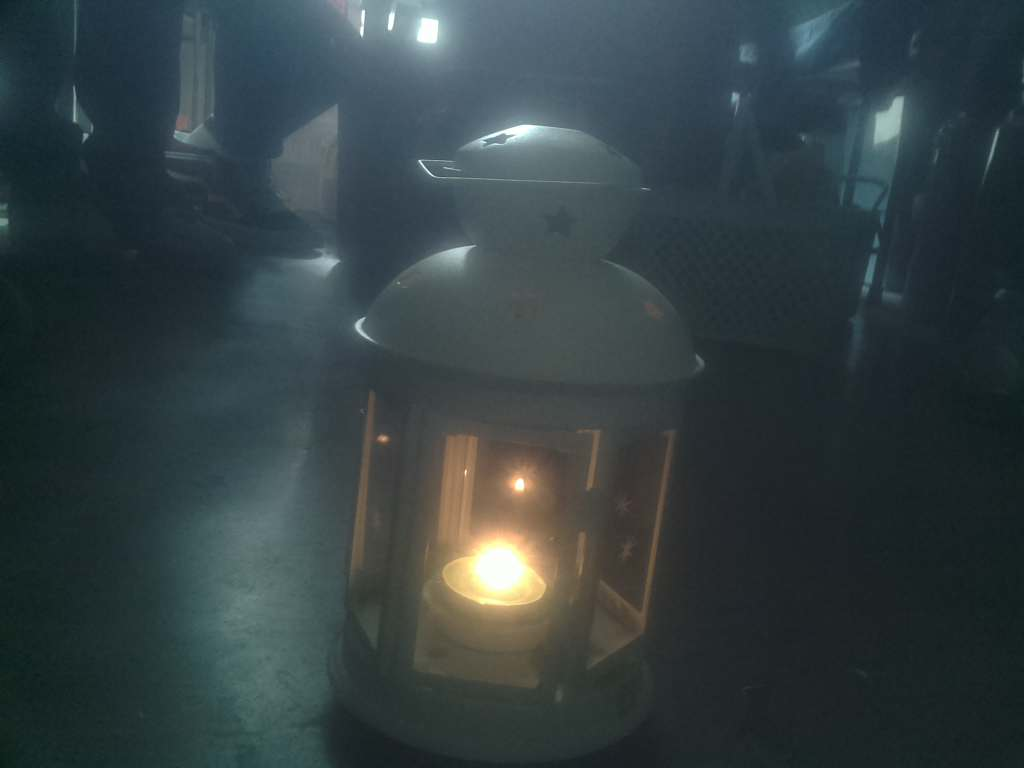fire: (434, 527, 552, 625)
